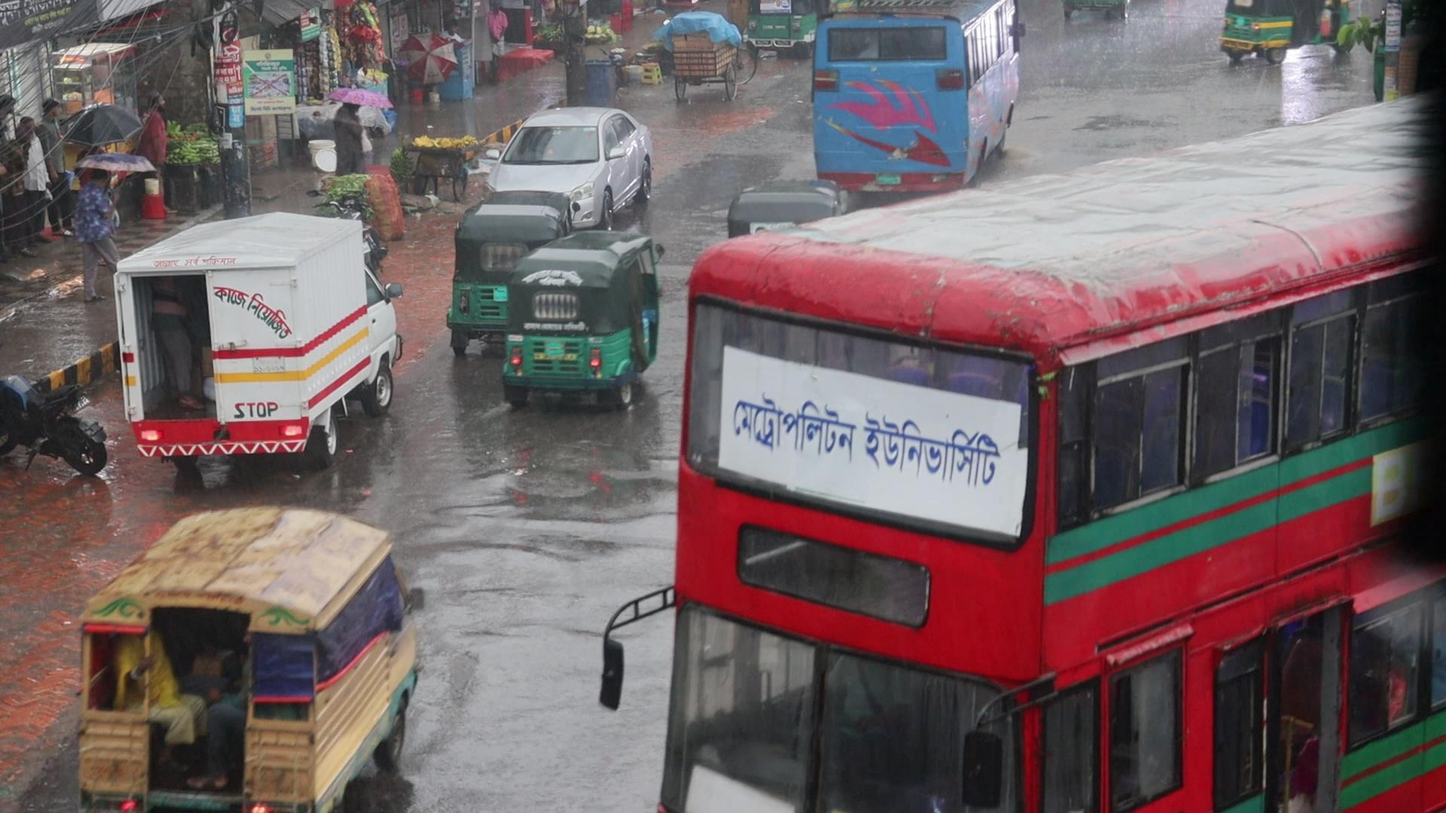Bus: (603, 93, 1446, 813), (807, 1, 1027, 183)
Truck: (67, 502, 426, 813)
